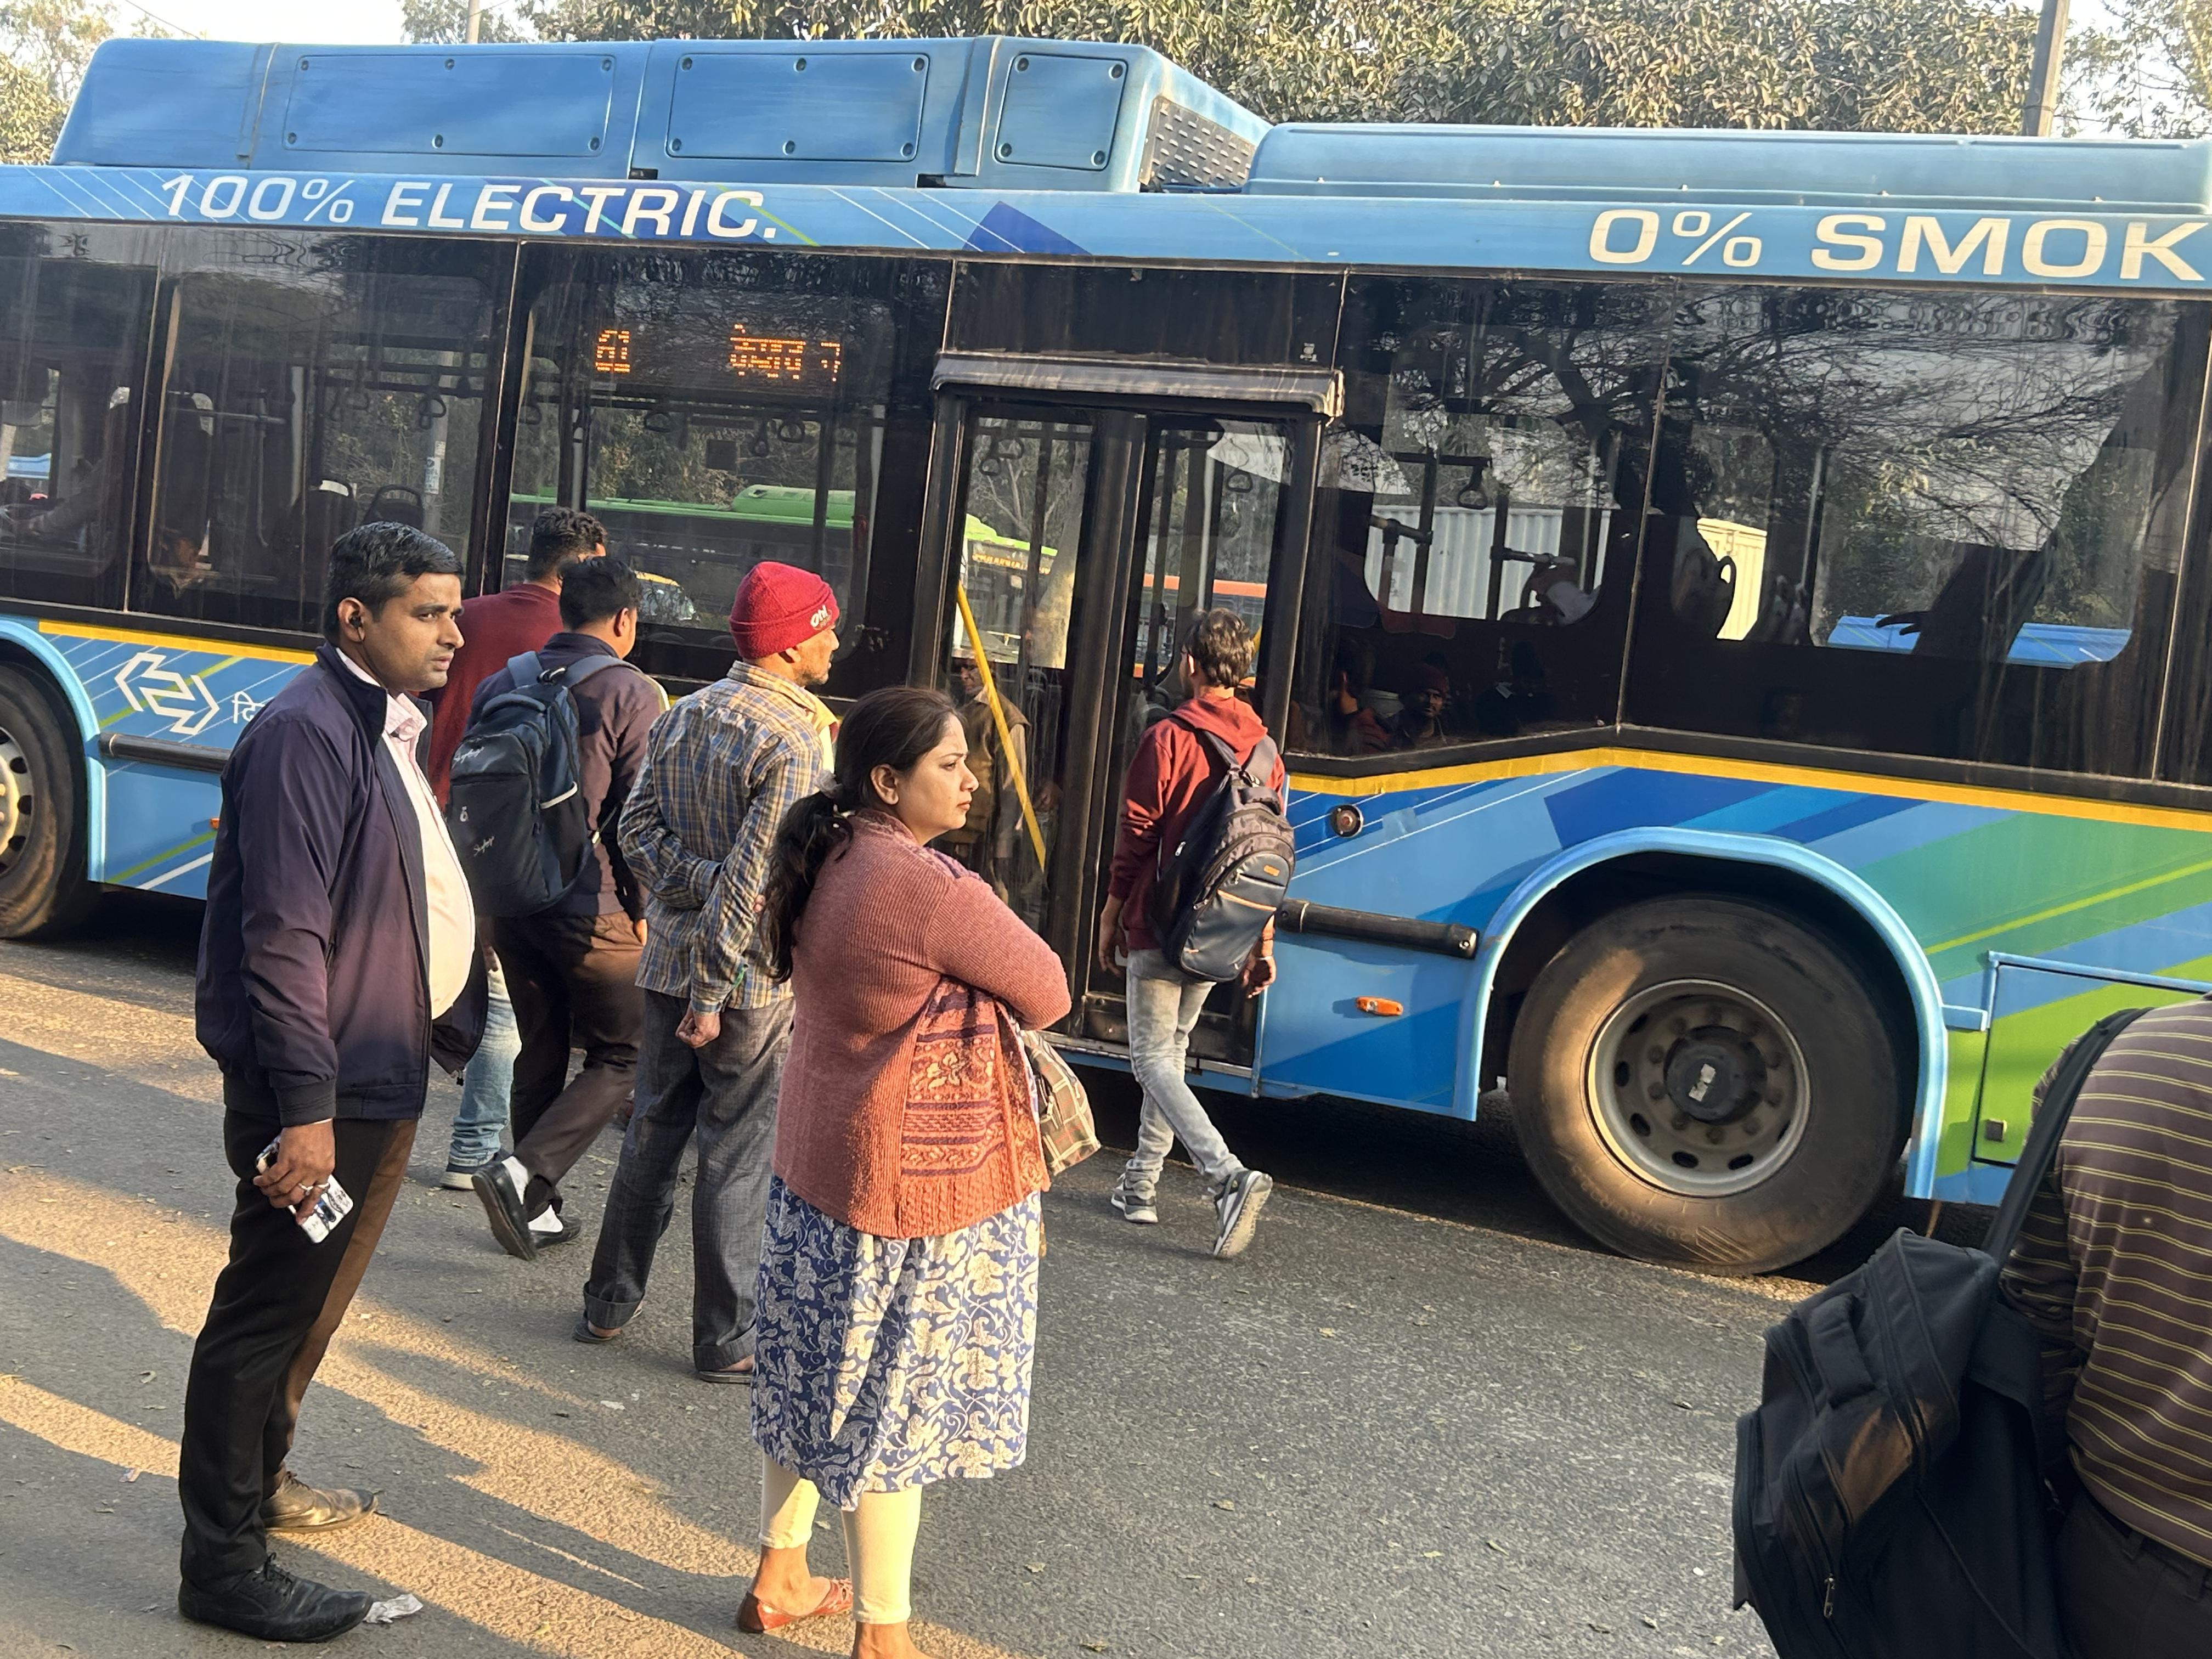Bus: (0, 49, 2212, 1246)
Display Board: (526, 263, 883, 422)
